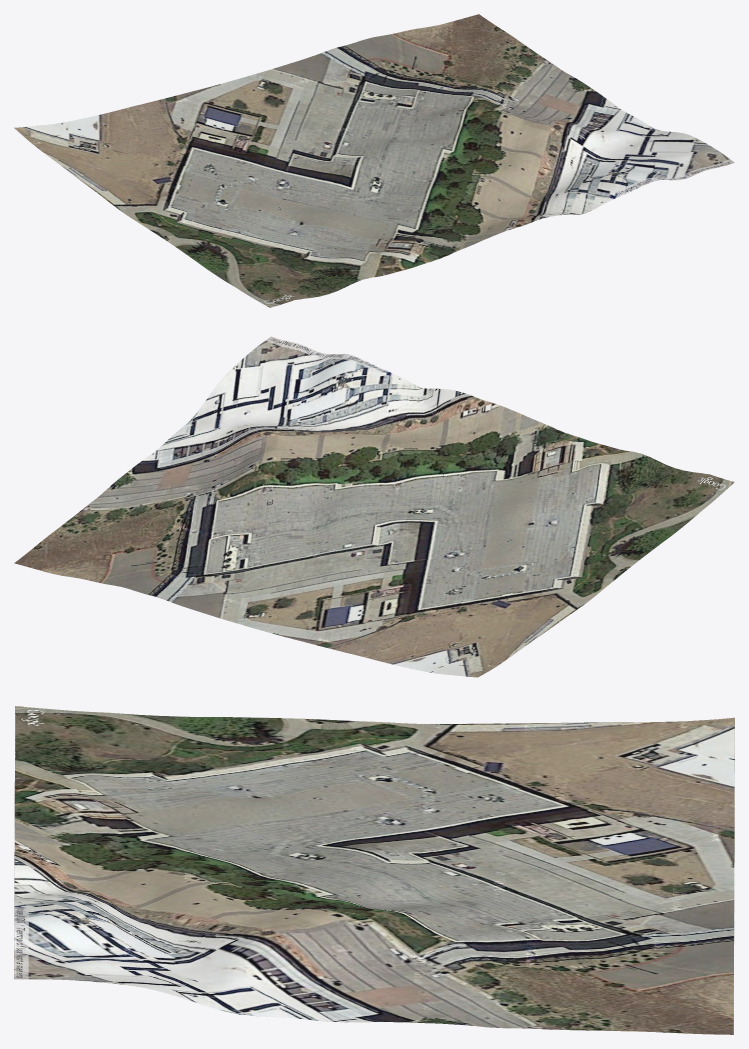
The model's file is campus.fbx.
The picture shows the model from 3 angles, top to bottom: view 1: azimuth 30°, elevation 25°; view 2: azimuth 150°, elevation 25°; view 3: azimuth 270°, elevation 25°; orthographic projection. The views are drawn at different scales.
Visible parts, largest first — view 1: Google_Earth_Terrain; view 2: Google_Earth_Terrain; view 3: Google_Earth_Terrain.
Boxes of the visible parts, box(x1,y1,x2,y2) form: Google_Earth_Terrain: box(14, 14, 734, 307); Google_Earth_Terrain: box(14, 336, 734, 677); Google_Earth_Terrain: box(14, 706, 734, 1034).
Size of the model in its own units: 1431 by 143 by 1369.
